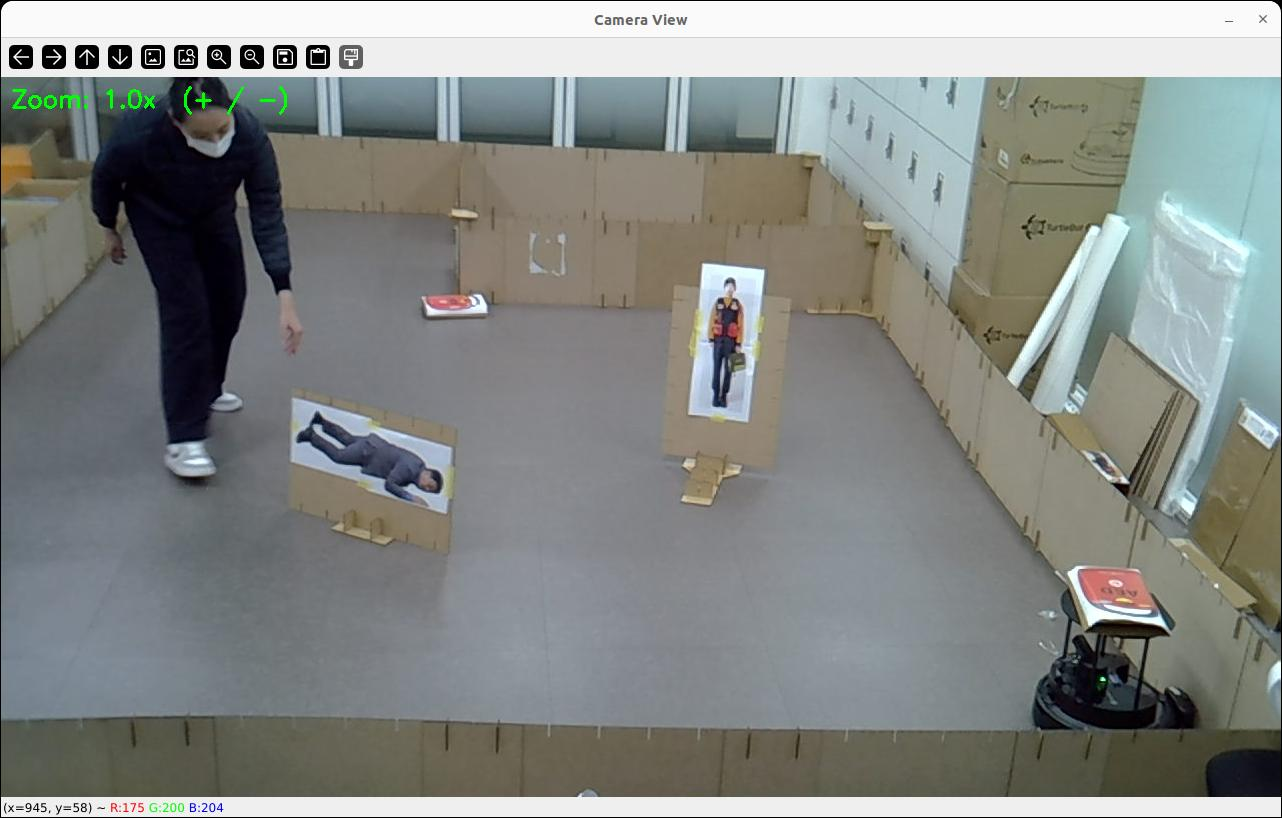AED: (1068, 566, 1170, 637), (423, 293, 488, 319)
Patient: (298, 412, 440, 505)
Responder: (708, 278, 744, 407)
Robot: (1030, 588, 1197, 729)
